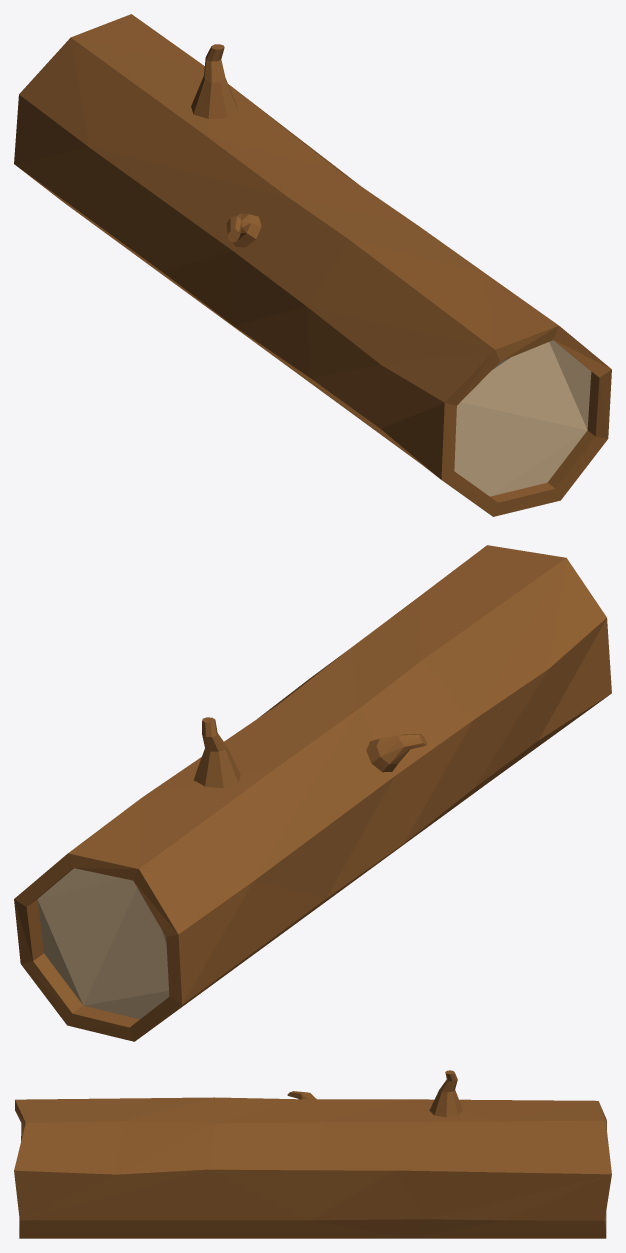
The model's file is log_03.glb.
The picture shows the model from 3 angles, top to bottom: view 1: azimuth 30°, elevation 25°; view 2: azimuth 150°, elevation 25°; view 3: azimuth 270°, elevation 25°; orthographic projection. The views are drawn at different scales.
Visible parts, largest first — view 1: Object_13, Object_14; view 2: Object_13, Object_14; view 3: Object_13.
Boxes of the visible parts, bbox=[...] form: Object_13: bbox=[14, 14, 611, 516]; Object_14: bbox=[454, 340, 591, 496]; Object_13: bbox=[14, 545, 611, 1041]; Object_14: bbox=[37, 868, 169, 1019]; Object_13: bbox=[14, 1070, 611, 1238].
Size of the model in its own units: 1.14 by 1.38 by 4.76.
